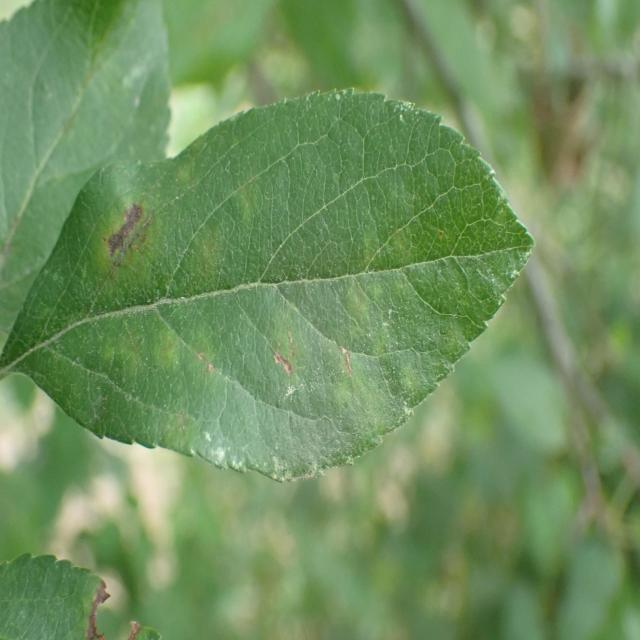scab: (22, 156, 508, 449)
